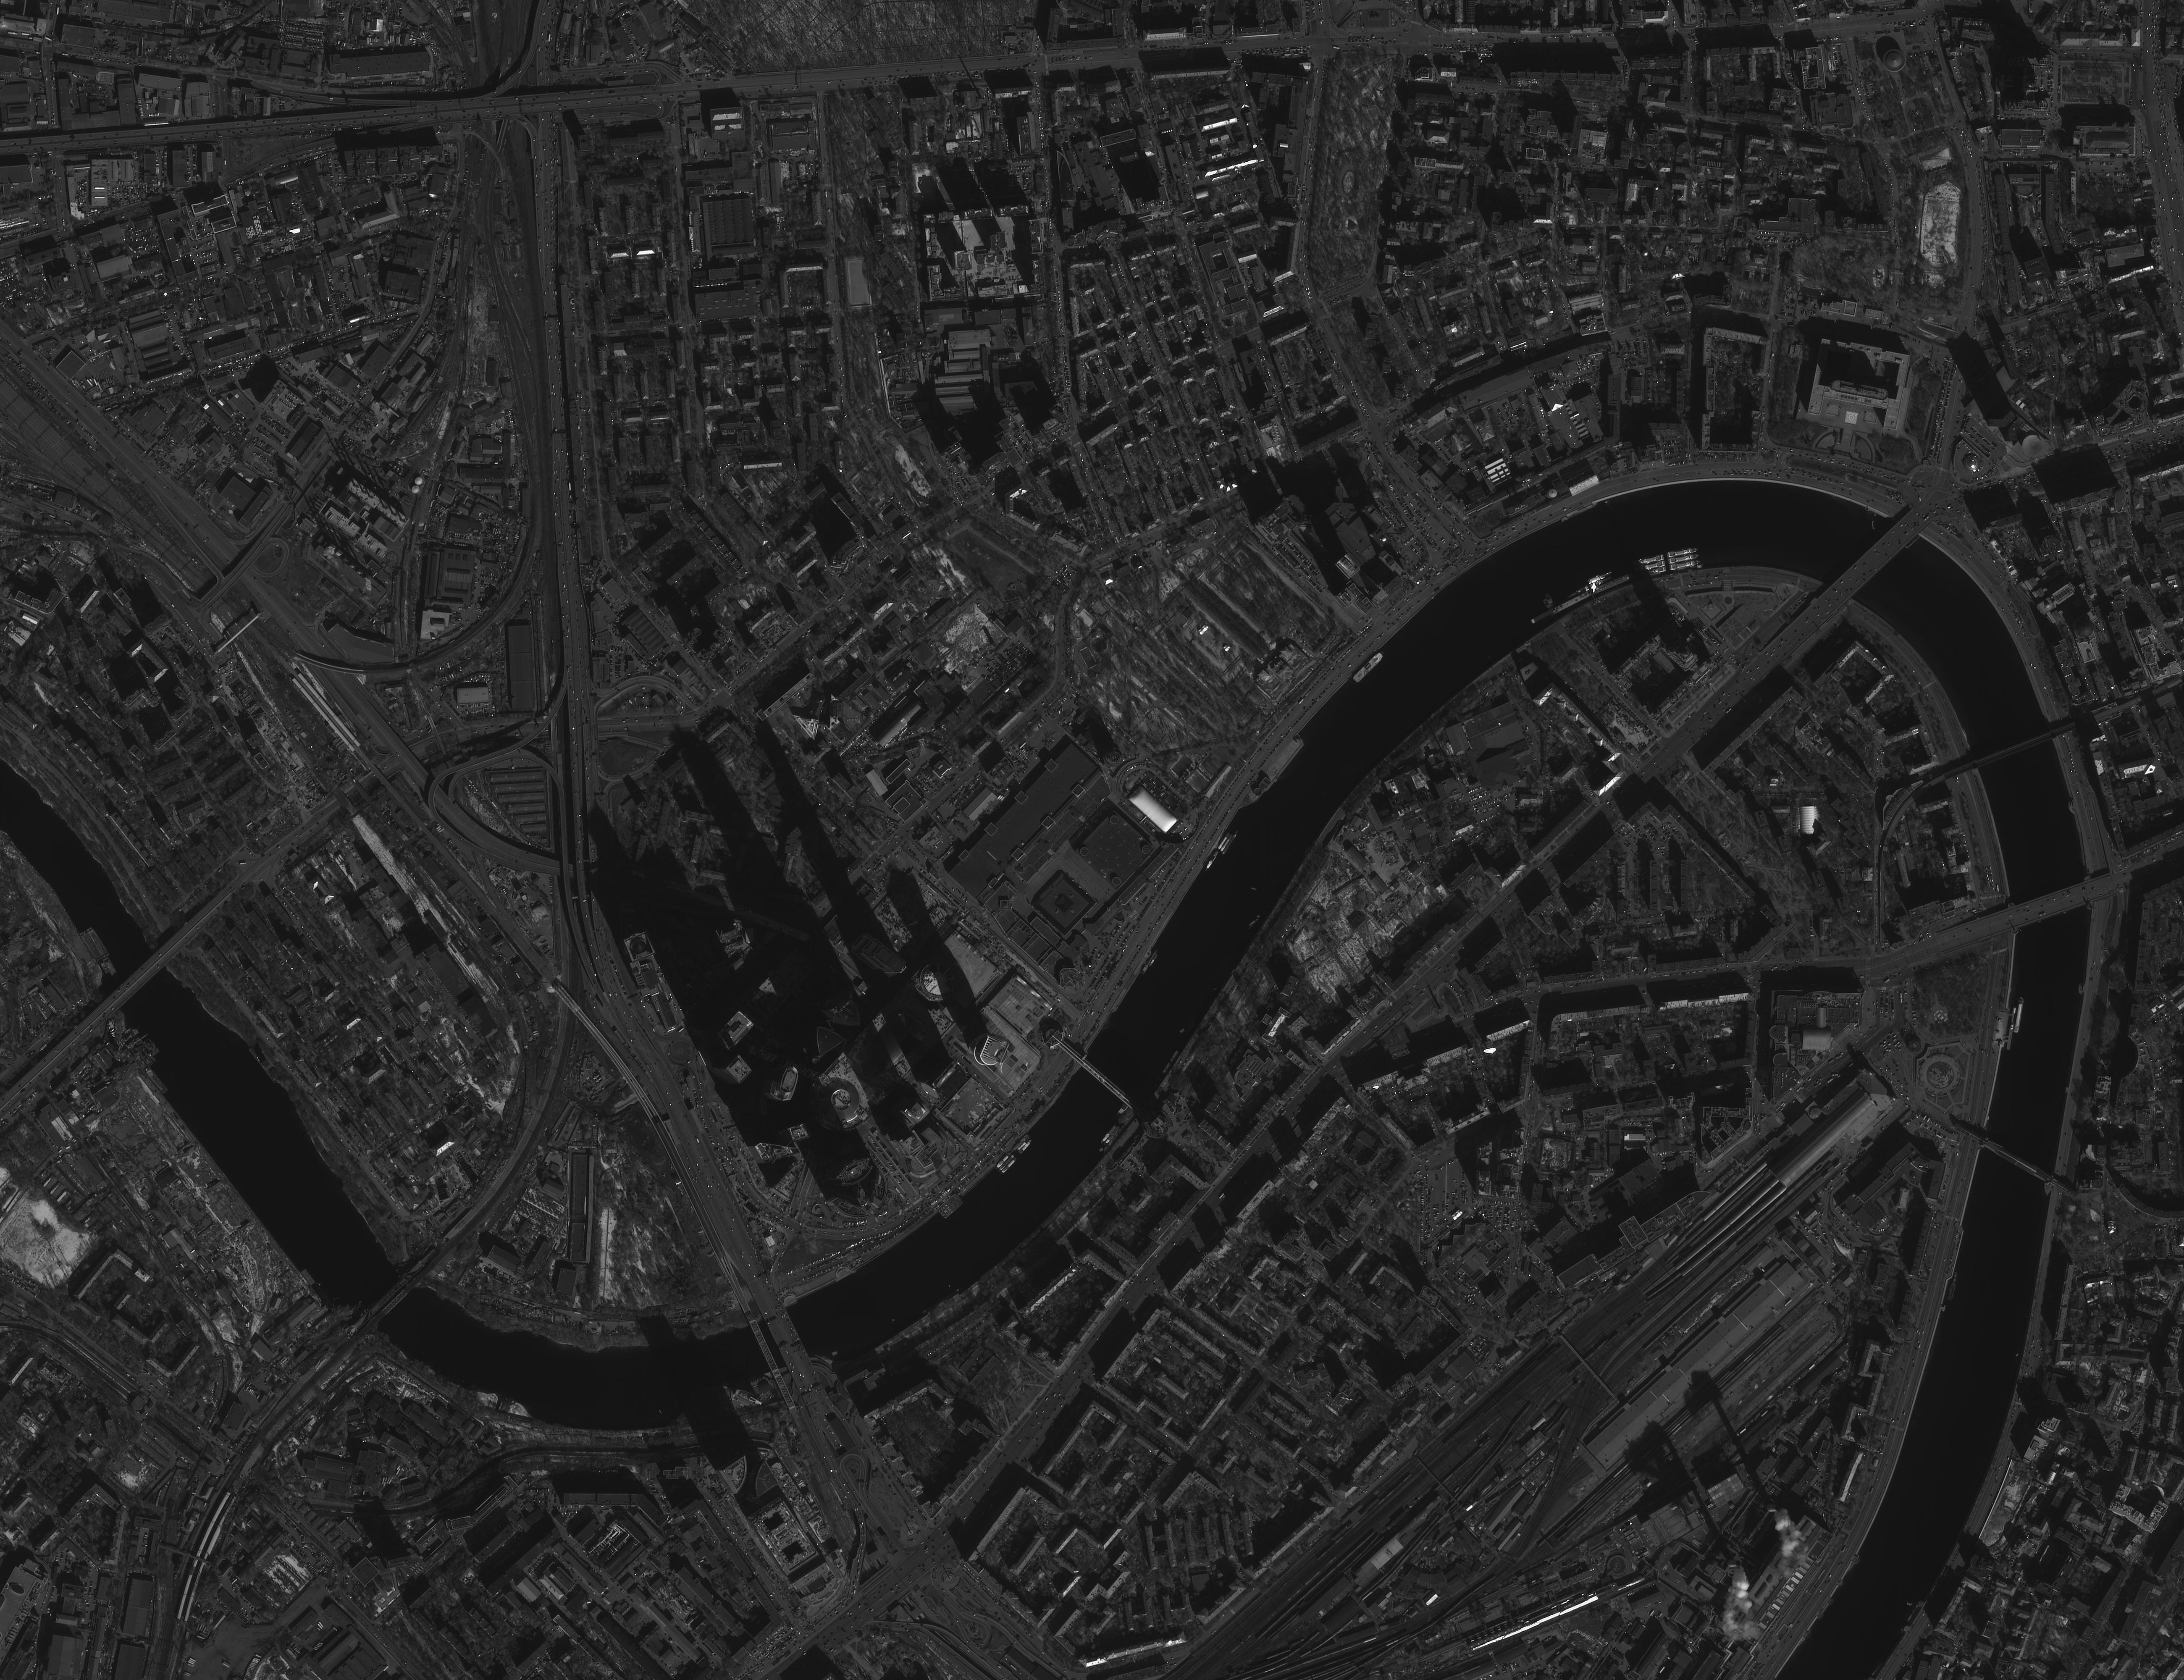harbor: (1551, 591, 1592, 616), (1592, 574, 1631, 596)
ship: (1353, 652, 1383, 683), (80, 930, 105, 963), (86, 927, 111, 958), (1632, 552, 1667, 567), (1633, 560, 1667, 573), (1634, 566, 1668, 579), (1668, 552, 1701, 564), (1587, 570, 1614, 585), (1222, 830, 1238, 856), (1669, 559, 1702, 572), (1666, 547, 1701, 558), (2013, 997, 2024, 1033), (1567, 585, 1590, 600), (103, 956, 118, 976), (995, 1152, 1012, 1170), (1012, 1134, 1029, 1152), (1100, 1125, 1116, 1144), (1000, 1158, 1017, 1175), (998, 1154, 1015, 1171), (1205, 851, 1219, 871), (1105, 1126, 1120, 1144), (1218, 832, 1230, 850), (1019, 1139, 1032, 1155), (99, 960, 111, 975), (1221, 839, 1230, 852), (1545, 593, 1554, 606), (1149, 954, 1158, 967), (1016, 1142, 1026, 1152), (1543, 598, 1551, 609)
